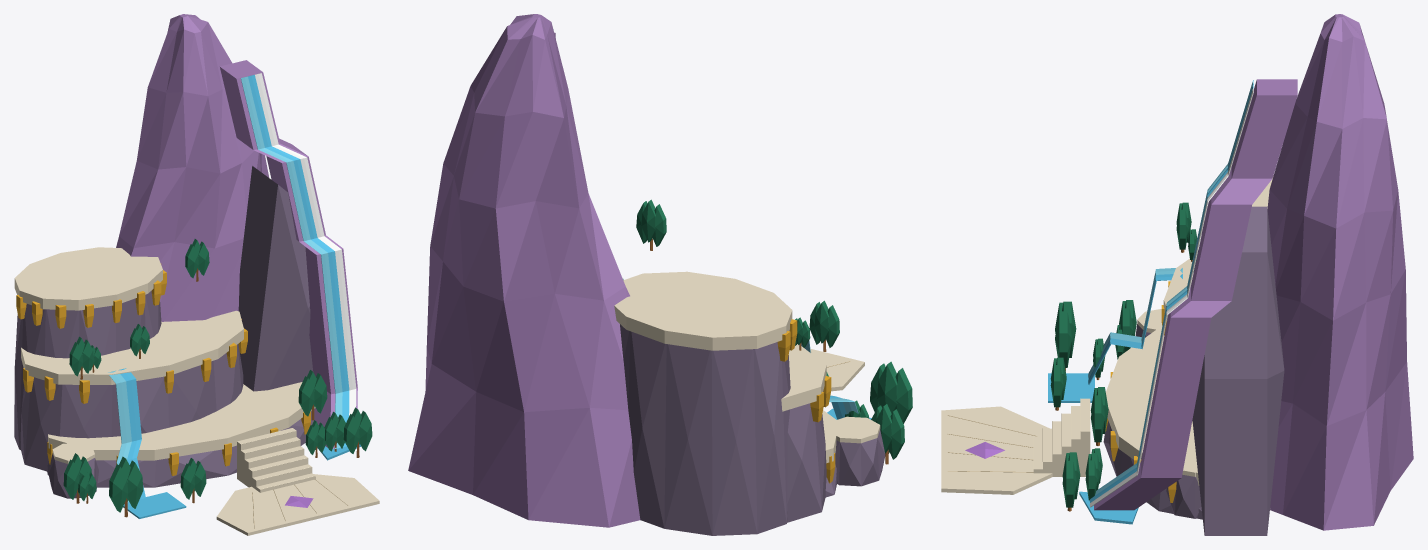
Rendered from decoration.glb.
3 views of the same model, side by side, from view 1: azimuth 30°, elevation 25°; view 2: azimuth 150°, elevation 25°; view 3: azimuth 270°, elevation 25° (orthographic). The views are drawn at different scales.
Parts seen in each view (by area): view 1: 18_R3A_Canterlot_BroadMountain, 18_R3A_Canterlot_TerracesCourtyardAndWater, 18_R3A_Canterlot_PaperLeafGardens; view 2: 18_R3A_Canterlot_BroadMountain, 18_R3A_Canterlot_TerracesCourtyardAndWater, 18_R3A_Canterlot_PaperLeafGardens; view 3: 18_R3A_Canterlot_BroadMountain, 18_R3A_Canterlot_TerracesCourtyardAndWater, 18_R3A_Canterlot_PaperLeafGardens.
Boxes of the visible parts, x1,y1,x2,y2 form: 18_R3A_Canterlot_BroadMountain: (14, 14, 357, 498); 18_R3A_Canterlot_TerracesCourtyardAndWater: (14, 73, 379, 535); 18_R3A_Canterlot_PaperLeafGardens: (63, 239, 372, 517); 18_R3A_Canterlot_BroadMountain: (408, 14, 885, 535); 18_R3A_Canterlot_TerracesCourtyardAndWater: (553, 29, 880, 483); 18_R3A_Canterlot_PaperLeafGardens: (623, 199, 912, 464); 18_R3A_Canterlot_BroadMountain: (1094, 14, 1413, 535); 18_R3A_Canterlot_TerracesCourtyardAndWater: (941, 80, 1273, 524); 18_R3A_Canterlot_PaperLeafGardens: (1050, 202, 1198, 511).
Bounding box in the file's own units: 1.4 × 1.61 × 1.51.
